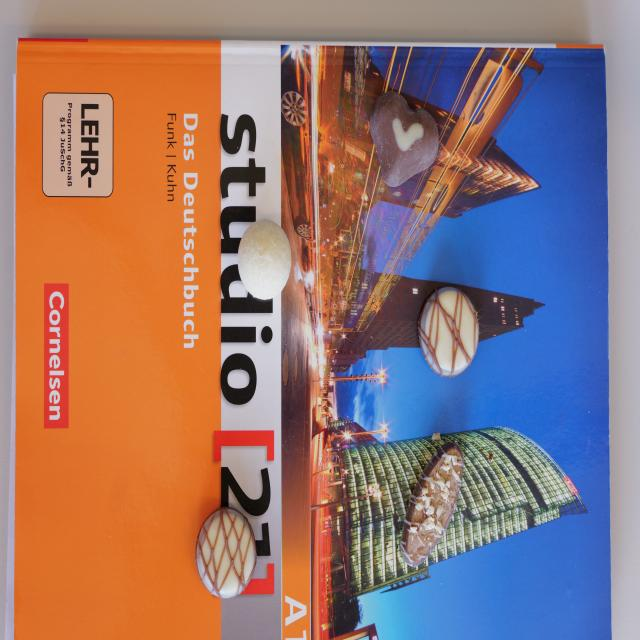Amandina: (401, 444, 464, 566)
Comtesse: (238, 220, 292, 300)
Creme_brulee: (195, 506, 256, 600), (418, 286, 480, 378)
Passion_au_lait: (371, 91, 438, 187)
